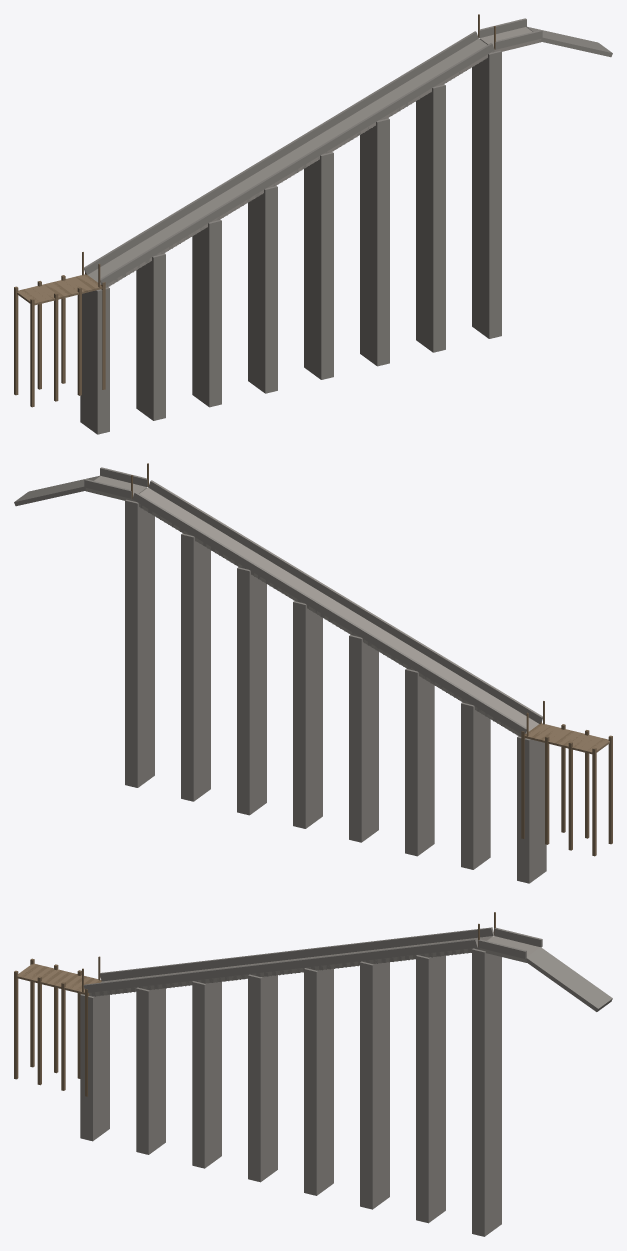
Rendered from ash_landing_hot_spring_lod1.glb.
3 renders of one model, top to bottom at view 1: azimuth 30°, elevation 25°; view 2: azimuth 150°, elevation 25°; view 3: azimuth 330°, elevation 25°, orthographic.
Visible parts, largest first — view 1: geometry_0; view 2: geometry_0; view 3: geometry_0.
Part boxes in pixels (bbox=[...]): geometry_0: bbox=[14, 14, 612, 434]; geometry_0: bbox=[14, 463, 612, 883]; geometry_0: bbox=[14, 912, 612, 1236].
Size of the model in its own units: 74.02 by 37.73 by 3.95.
